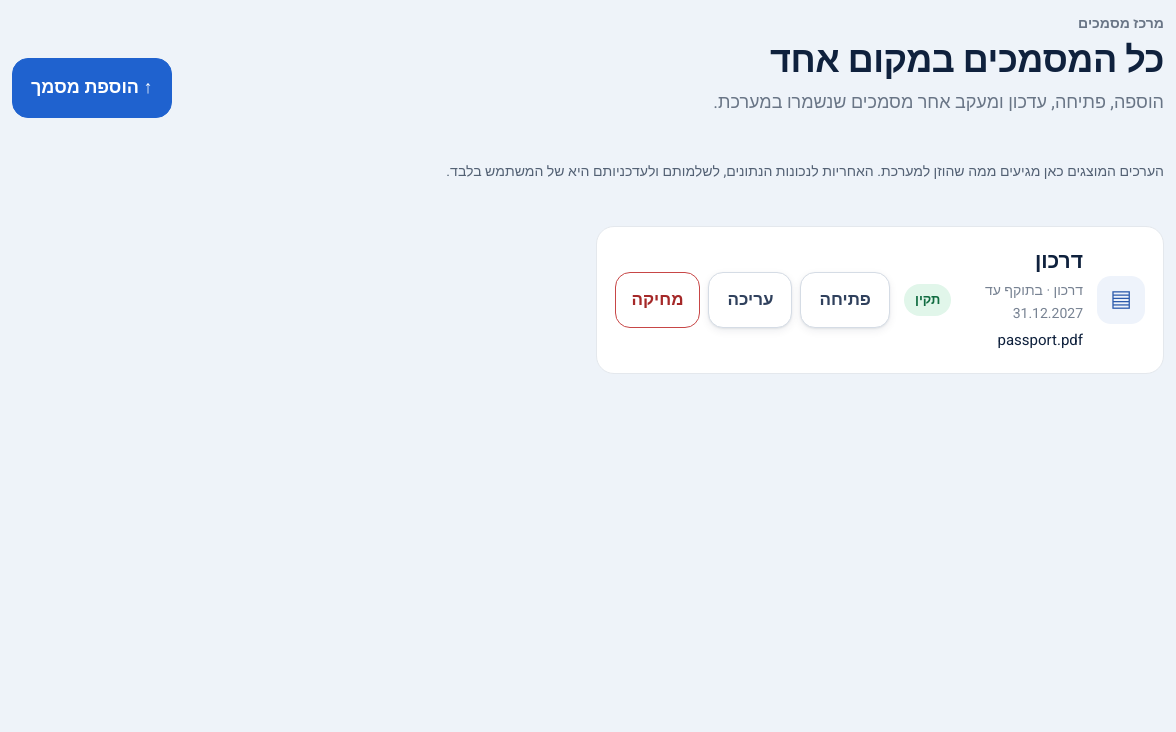
it: DocumentsPage › keeps a document whose deletion was refused
Click the button "מחיקה": (658, 300) [614,272,700,328]
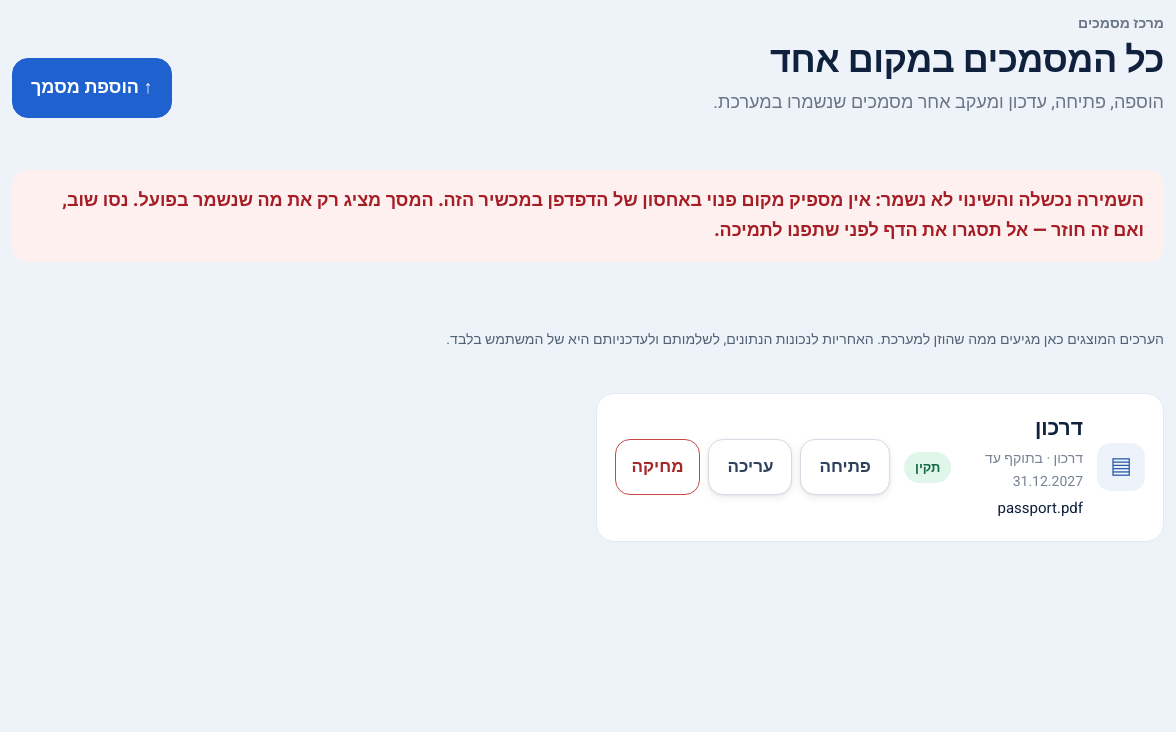
Expected: the message shows "השמירה נכשלה והשינוי לא נשמר: אין מספיק מקום פנוי", [62,187,1144,244]
